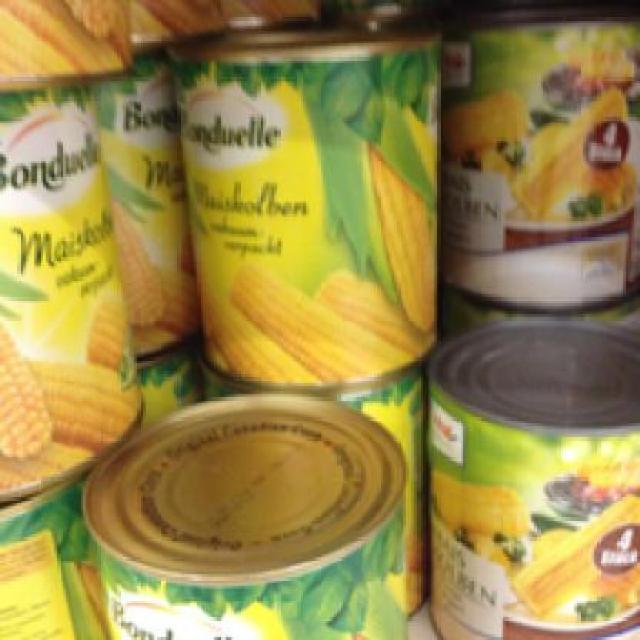Corn: (159, 29, 432, 388), (77, 380, 403, 637), (426, 314, 634, 637), (430, 12, 626, 314)
